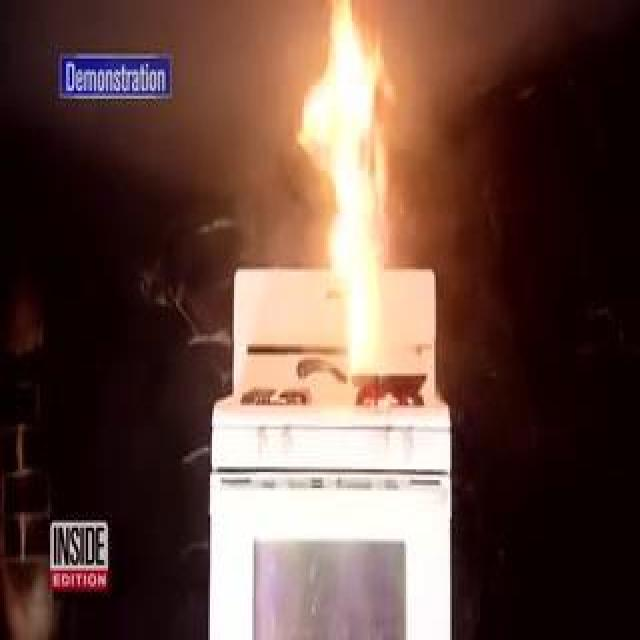Fire: (293, 2, 395, 378)
